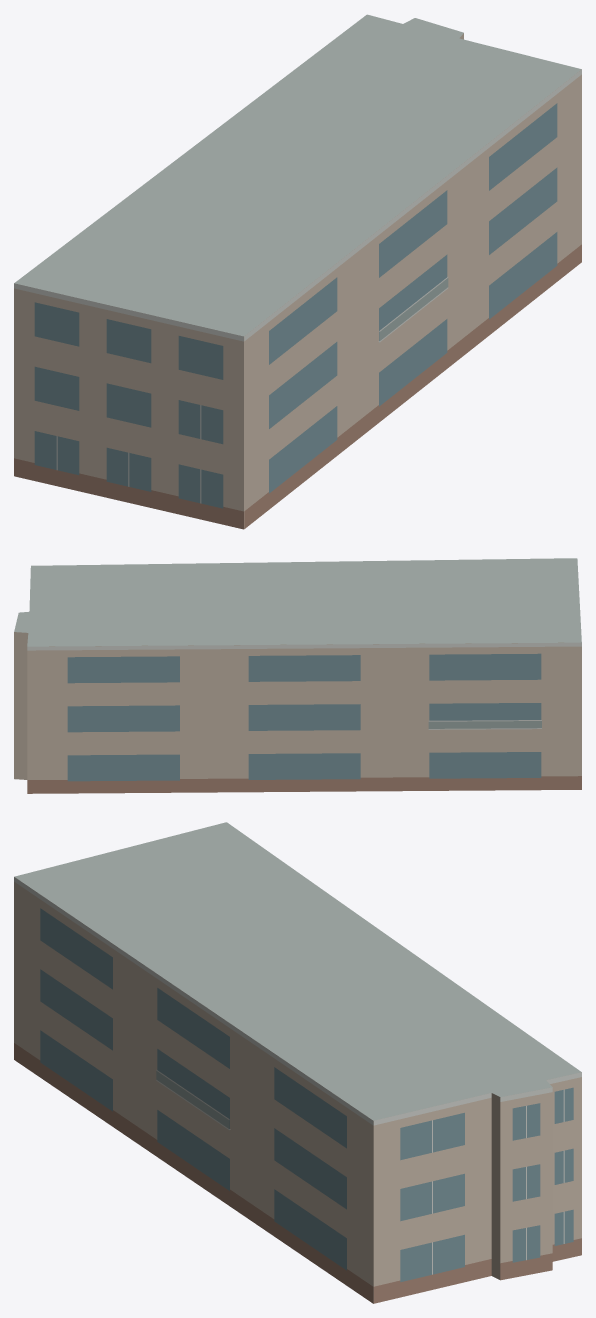
Rendered from survey-upis-32621533.glb.
3 views of the same model, one above another, from view 1: azimuth 30°, elevation 25°; view 2: azimuth 150°, elevation 25°; view 3: azimuth 270°, elevation 25° (orthographic). The views are drawn at different scales.
Parts seen in each view (by area): view 1: survey-upis-32621533.tmp; view 2: survey-upis-32621533.tmp; view 3: survey-upis-32621533.tmp.
Boxes of the visible parts, <box> form: survey-upis-32621533.tmp: <box>14,14,581,529</box>; survey-upis-32621533.tmp: <box>14,558,581,793</box>; survey-upis-32621533.tmp: <box>14,822,581,1303</box>.
Size of the model in its own units: 32.02 by 9.15 by 25.73.
